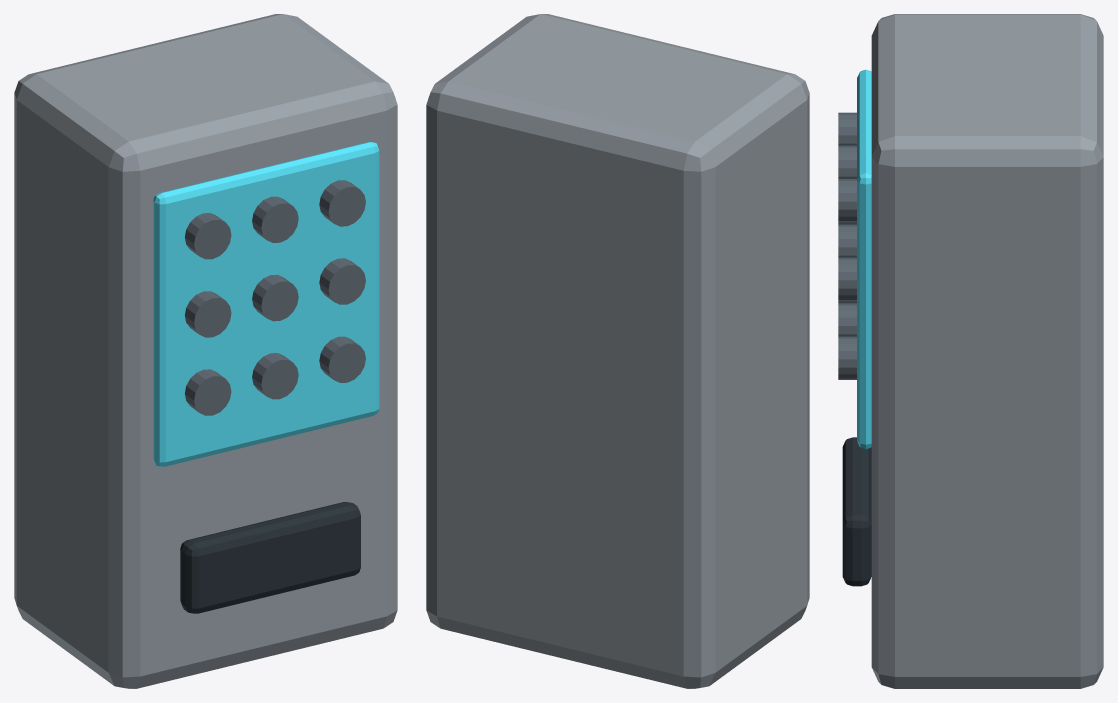
Rendered from 0_Feature.fbx.
The picture shows the model from 3 angles, left to right: view 1: azimuth 30°, elevation 25°; view 2: azimuth 150°, elevation 25°; view 3: azimuth 270°, elevation 25°; orthographic projection.
Visible parts, largest first — view 1: Body; view 2: Body; view 3: Body.
Boxes of the visible parts, x1,y1,x2,y2 form: Body: [14, 14, 397, 688]; Body: [426, 14, 809, 688]; Body: [838, 14, 1103, 688].
Size of the model in its own units: 1.15 by 2.1 by 0.915.
